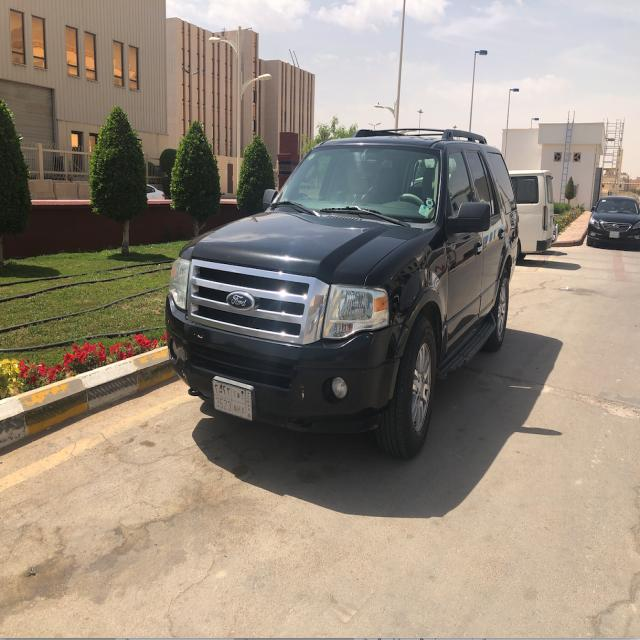license_plate: (210, 380, 252, 423), (610, 231, 620, 238)
